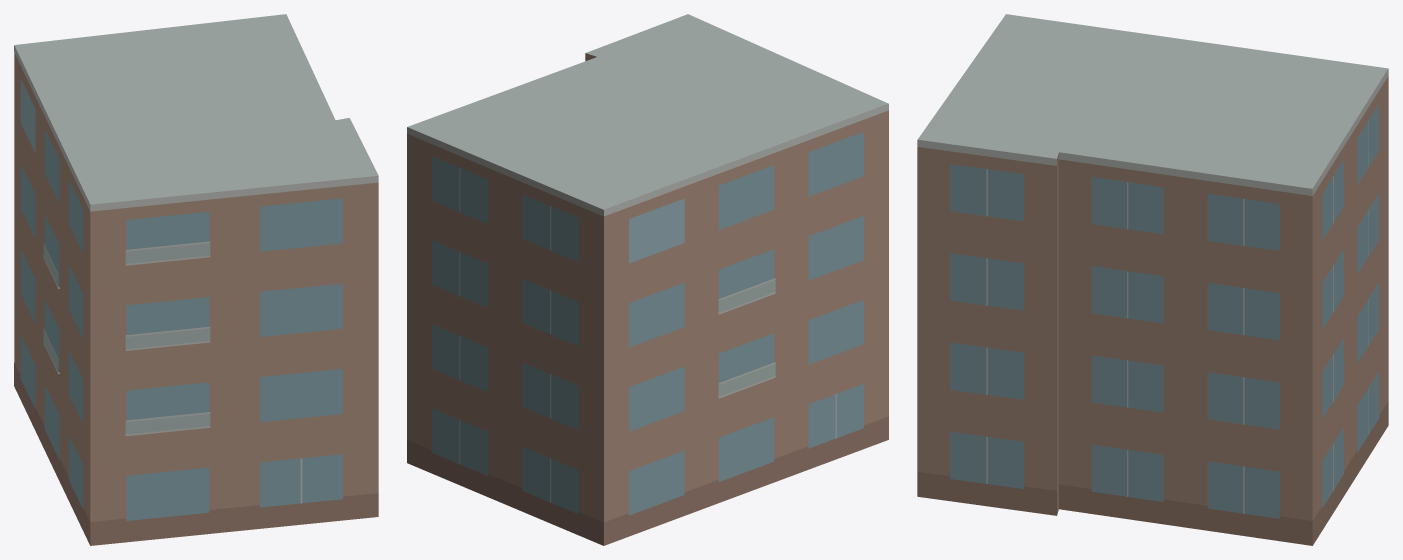
File: survey-upis-32812618.glb
3 views of the same model, side by side, from view 1: azimuth 30°, elevation 25°; view 2: azimuth 150°, elevation 25°; view 3: azimuth 270°, elevation 25° (orthographic). The views are drawn at different scales.
Parts seen in each view (by area): view 1: survey-upis-32812618.tmp; view 2: survey-upis-32812618.tmp; view 3: survey-upis-32812618.tmp.
Part boxes in pixels (bbox=[...]): survey-upis-32812618.tmp: bbox=[14, 14, 378, 545]; survey-upis-32812618.tmp: bbox=[407, 14, 888, 545]; survey-upis-32812618.tmp: bbox=[917, 14, 1388, 545].
Bounding box in the file's own units: 12.83 × 12.2 × 14.6.
